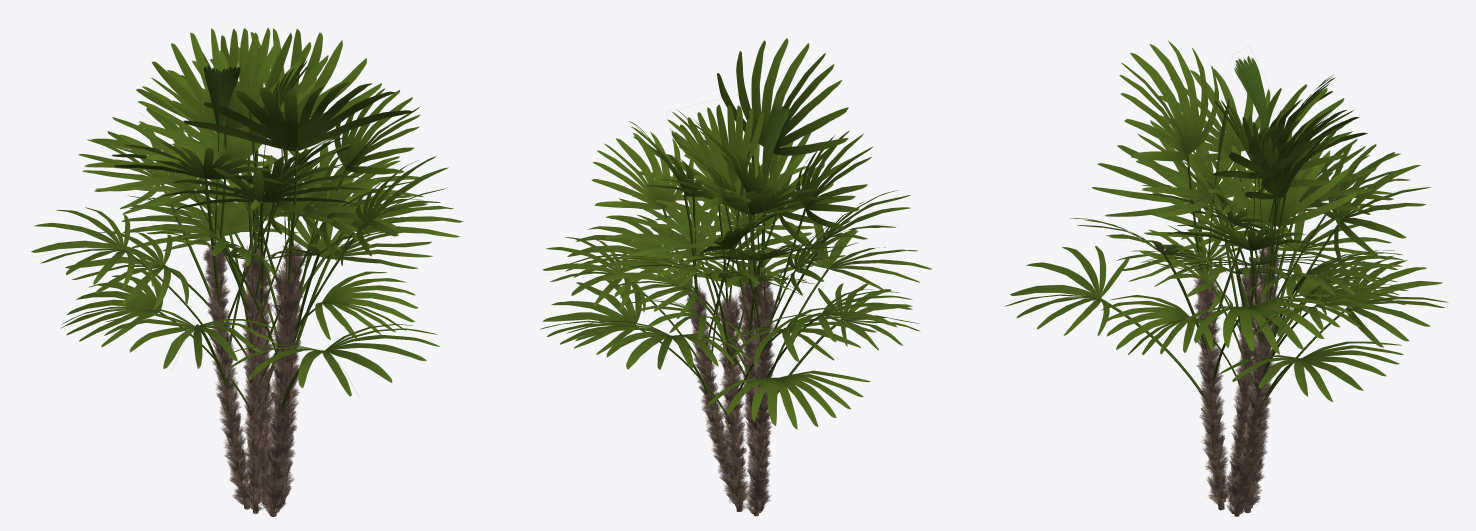
File: bamboo_palm0.glb
3 renders of one model, left to right at view 1: azimuth 30°, elevation 25°; view 2: azimuth 150°, elevation 25°; view 3: azimuth 270°, elevation 25°, orthographic. The views are drawn at different scales.
Visible parts, largest first — view 1: Rhapis_excelsa_HD_Rhapis leaf 03_0, Rhapis_excelsa_HD_Rhapis leaf 01_0, Rhapis_excelsa_HD_Rhapis fur 2_0, Rhapis_excelsa_HD_Rhapis fur 1_0, Rhapis_excelsa_HD_Rhapis leaf 02_0, Rhapis_excelsa_HD_Rhapis leaf stalk 01_0, Rhapis_excelsa_HD_Rhapis trunk_0, Rhapis_excelsa_HD_Rhapis leaf 06_0; view 2: Rhapis_excelsa_HD_Rhapis leaf 03_0, Rhapis_excelsa_HD_Rhapis leaf 01_0, Rhapis_excelsa_HD_Rhapis leaf 02_0, Rhapis_excelsa_HD_Rhapis fur 2_0, Rhapis_excelsa_HD_Rhapis fur 1_0, Rhapis_excelsa_HD_Rhapis leaf stalk 01_0, Rhapis_excelsa_HD_Rhapis leaf 05_0, Rhapis_excelsa_HD_Rhapis leaf 06_0, Rhapis_excelsa_HD_Rhapis trunk_0; view 3: Rhapis_excelsa_HD_Rhapis leaf 03_0, Rhapis_excelsa_HD_Rhapis leaf 01_0, Rhapis_excelsa_HD_Rhapis leaf 02_0, Rhapis_excelsa_HD_Rhapis fur 2_0, Rhapis_excelsa_HD_Rhapis fur 1_0, Rhapis_excelsa_HD_Rhapis leaf stalk 01_0, Rhapis_excelsa_HD_Rhapis leaf 05_0, Rhapis_excelsa_HD_Rhapis leaf 06_0, Rhapis_excelsa_HD_Rhapis trunk_0.
Boxes of the visible parts, x1,y1,x2,y2 form: Rhapis_excelsa_HD_Rhapis leaf 03_0: (60,27,462,346); Rhapis_excelsa_HD_Rhapis leaf 01_0: (31,107,448,396); Rhapis_excelsa_HD_Rhapis fur 2_0: (203,245,305,511); Rhapis_excelsa_HD_Rhapis fur 1_0: (203,241,305,514); Rhapis_excelsa_HD_Rhapis leaf 02_0: (110,120,432,268); Rhapis_excelsa_HD_Rhapis leaf stalk 01_0: (124,75,365,423); Rhapis_excelsa_HD_Rhapis trunk_0: (217,270,292,516); Rhapis_excelsa_HD_Rhapis leaf 06_0: (199,59,240,135); Rhapis_excelsa_HD_Rhapis leaf 03_0: (565,38,870,429); Rhapis_excelsa_HD_Rhapis leaf 01_0: (542,127,931,365); Rhapis_excelsa_HD_Rhapis leaf 02_0: (540,130,873,369); Rhapis_excelsa_HD_Rhapis fur 2_0: (689,273,776,513); Rhapis_excelsa_HD_Rhapis fur 1_0: (686,272,775,511); Rhapis_excelsa_HD_Rhapis leaf stalk 01_0: (627,108,844,427); Rhapis_excelsa_HD_Rhapis leaf 05_0: (671,104,763,186); Rhapis_excelsa_HD_Rhapis leaf 06_0: (762,104,792,186); Rhapis_excelsa_HD_Rhapis trunk_0: (697,294,765,516); Rhapis_excelsa_HD_Rhapis leaf 03_0: (1101,41,1405,354); Rhapis_excelsa_HD_Rhapis leaf 01_0: (1004,118,1430,336); Rhapis_excelsa_HD_Rhapis leaf 02_0: (1159,67,1448,401); Rhapis_excelsa_HD_Rhapis fur 2_0: (1193,248,1280,513); Rhapis_excelsa_HD_Rhapis fur 1_0: (1194,246,1279,511); Rhapis_excelsa_HD_Rhapis leaf stalk 01_0: (1099,99,1348,449); Rhapis_excelsa_HD_Rhapis leaf 05_0: (1214,100,1278,166); Rhapis_excelsa_HD_Rhapis leaf 06_0: (1234,56,1267,133); Rhapis_excelsa_HD_Rhapis trunk_0: (1206,292,1264,516).
Size of the model in its own units: 0.6727 by 0.711 by 0.6744.
10 materials, 10 textured.
